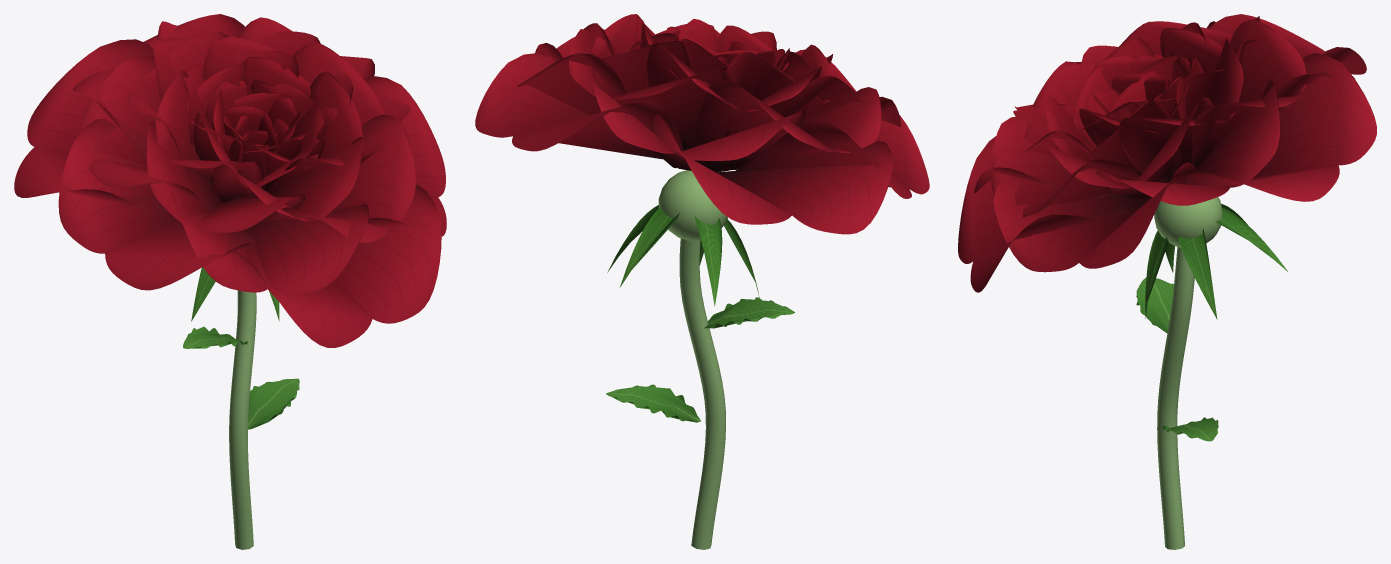
File: rose.glb
3 views of the same model, side by side, from view 1: azimuth 30°, elevation 25°; view 2: azimuth 150°, elevation 25°; view 3: azimuth 270°, elevation 25° (orthographic). The views are drawn at different scales.
Bounding box in the file's own units: 0.0844 × 0.1083 × 0.0811.
Materials: 10 (8 with a texture image).
